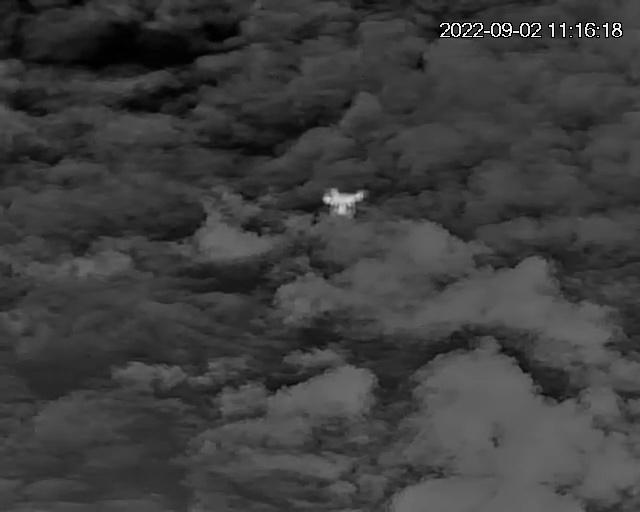DJI-Phantom: (321, 186, 371, 221)
